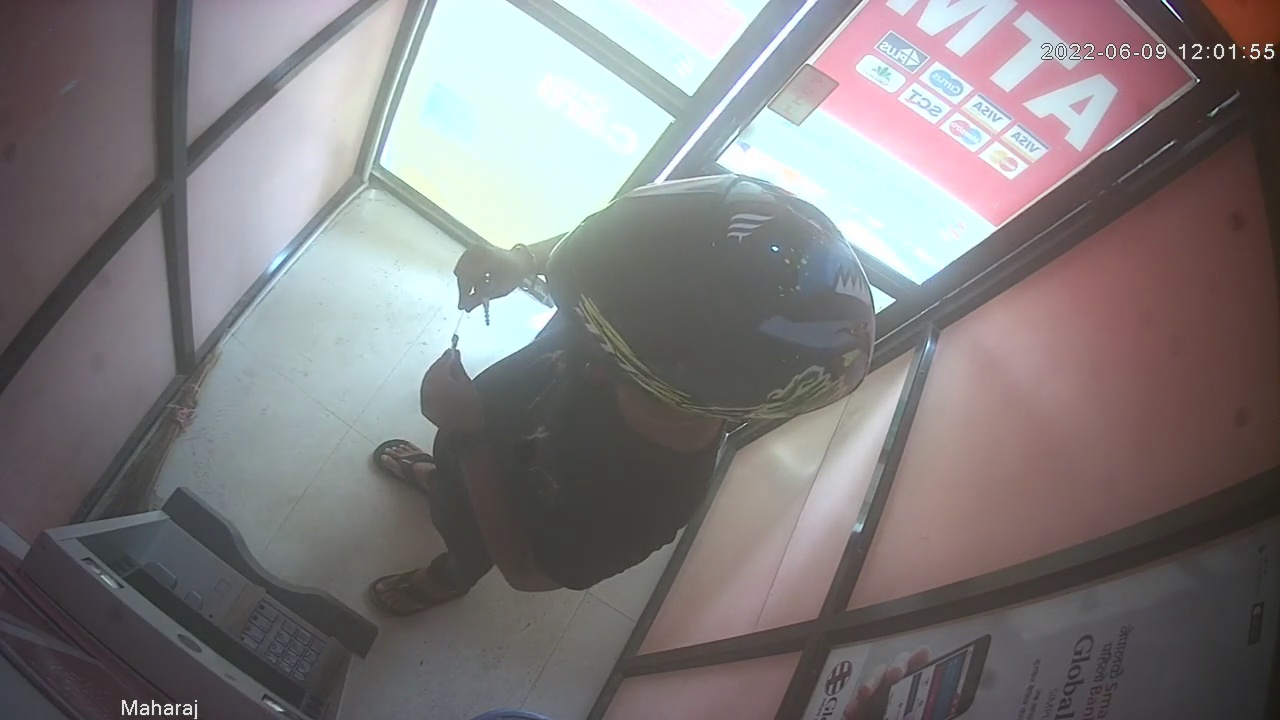helmet: (543, 173, 874, 420)
person: (369, 173, 876, 624)
